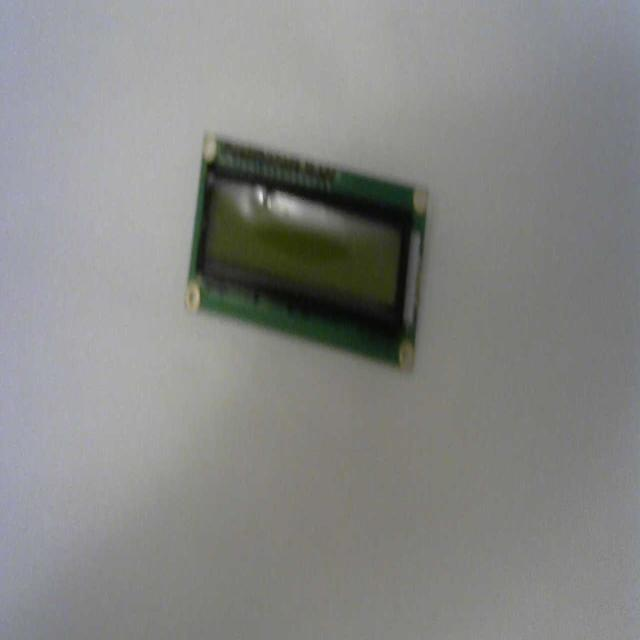lcd: (184, 128, 430, 373)
